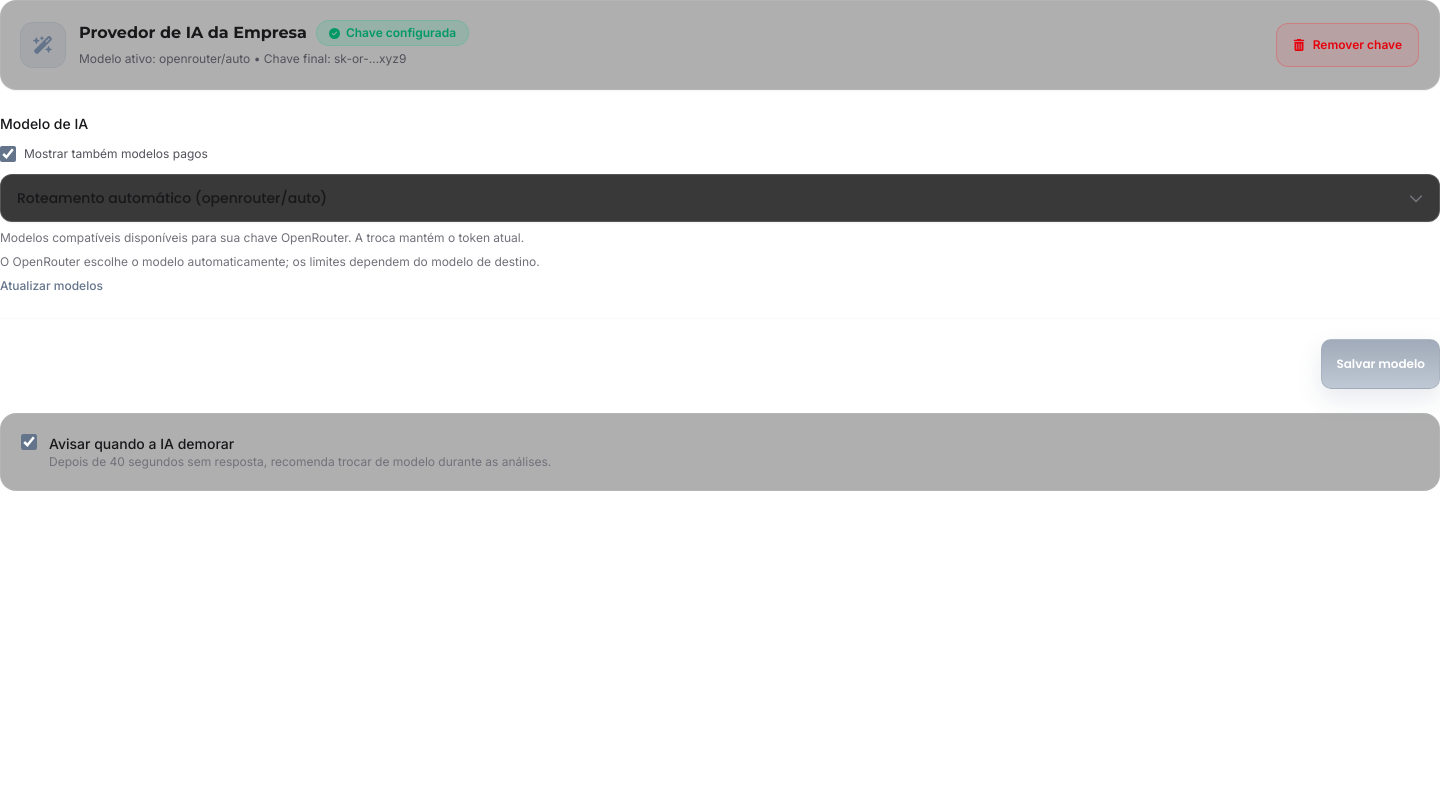
Scenario: FormIaSettings — cadastro e remoção da chave › filtro de modelos gratuitos › combina a caixinha com a busca por texto sem substituir o texto digitado
Click the dropdown named "Modelo de IA". click: [172, 198]
box: [0, 174, 1439, 222]
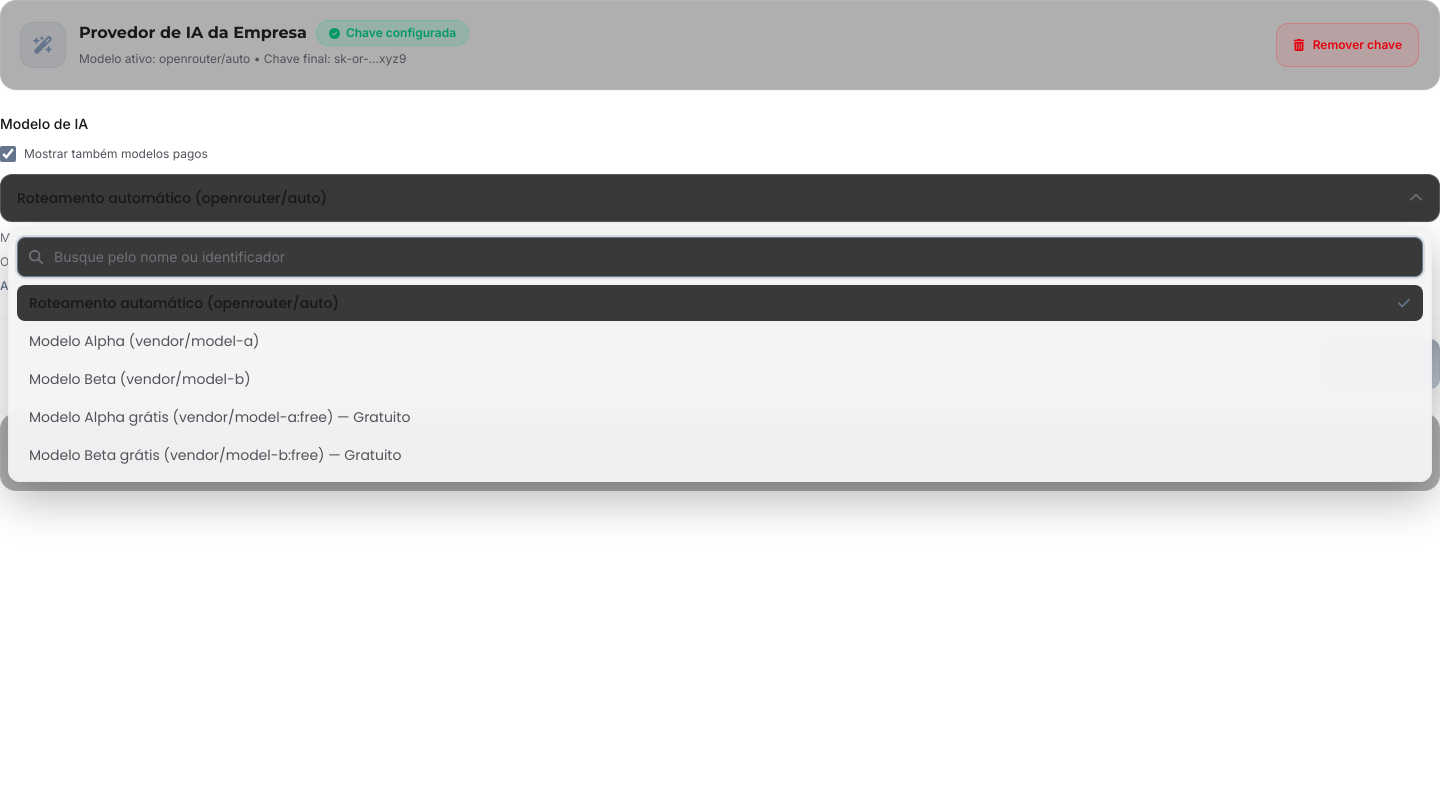
Type "ALPHA" into the search field named "Buscar modelo". click: [720, 256]
box: [17, 236, 1423, 276]
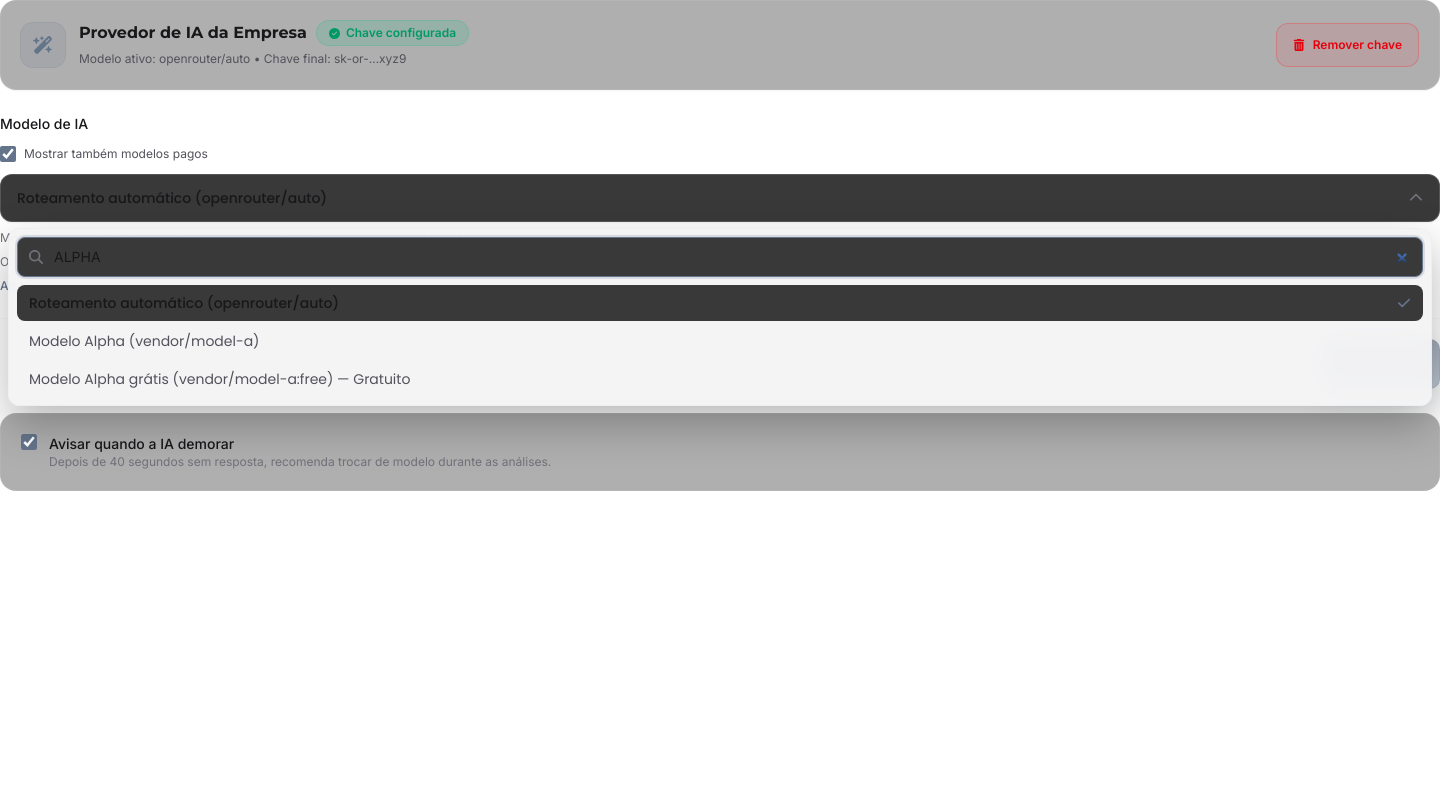
Click the checkbox labelled "Mostrar também modelos pagos". click: [8, 154]
box: [0, 146, 16, 162]
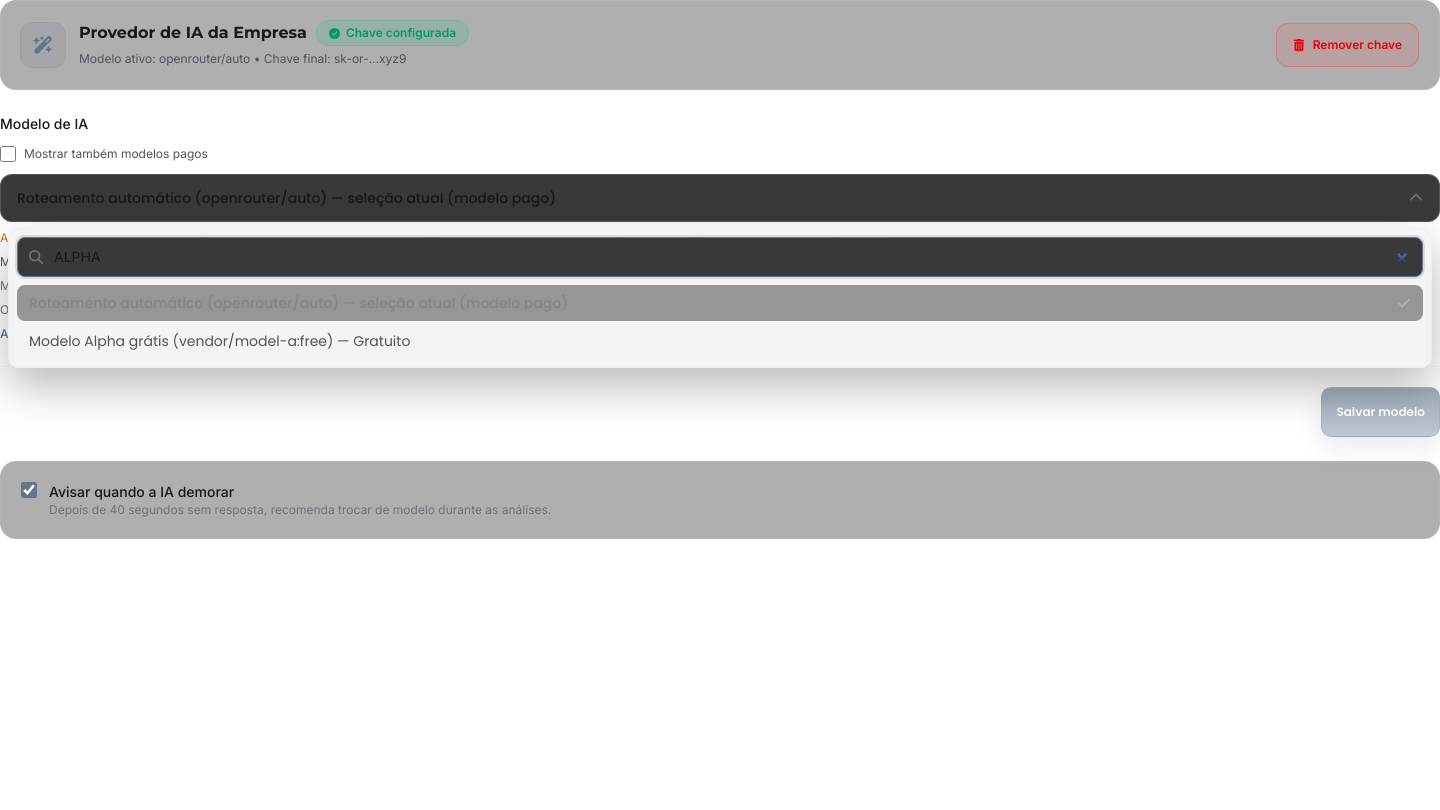
Check: the option "Modelo Beta grátis" is not shown
Check: the option "Modelo Alpha grátis (vendor/model-a:free) — Gratuito" is shown, box [17, 322, 1423, 358]
Check: the option "Modelo Alpha (vendor/model-a)" is gone
Replace the text in the search field named "Buscar modelo" with "vendor/model-b". click: [720, 256]
box: [17, 236, 1423, 276]
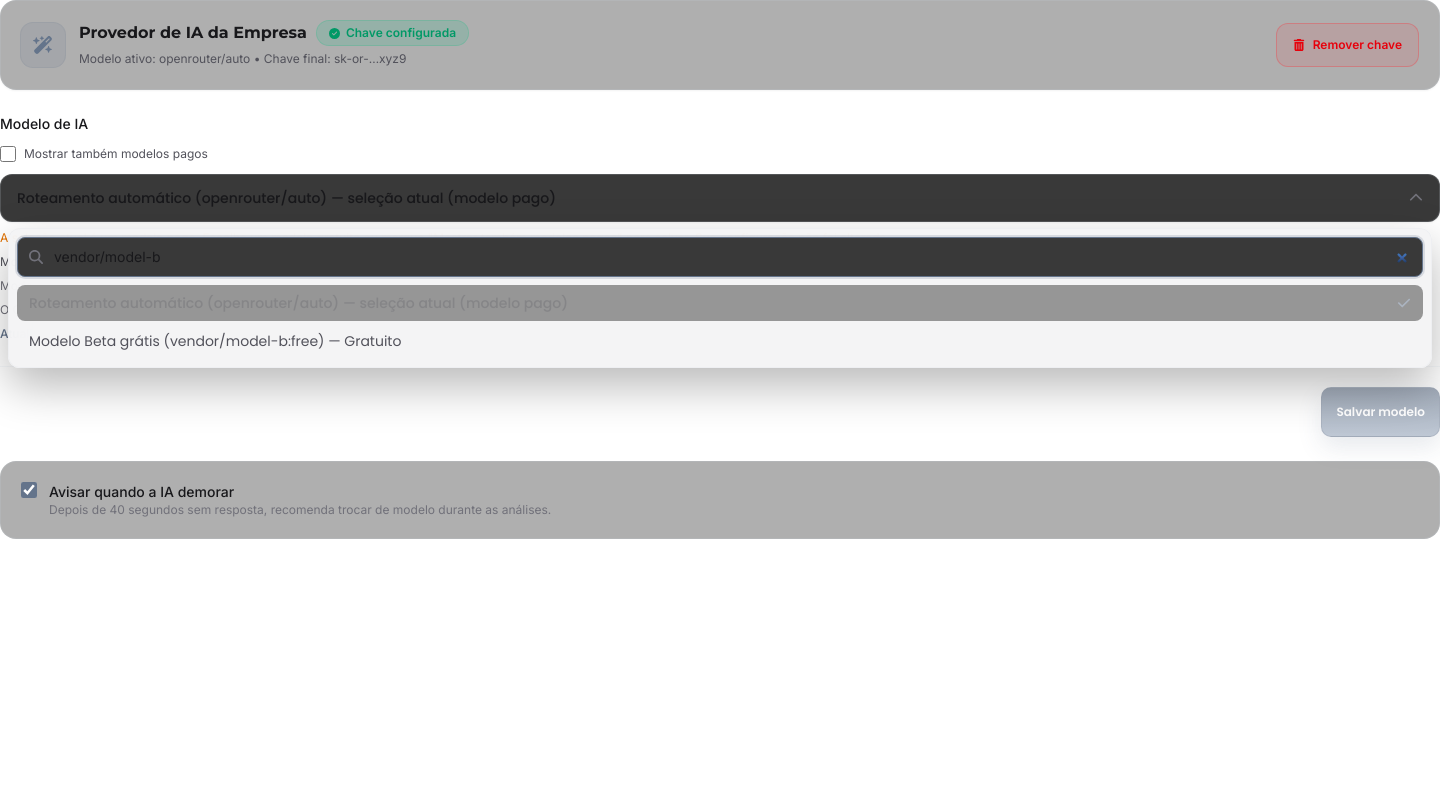
Check: the option "Modelo Beta grátis (vendor/model-b:free) — Gratuito" is shown, box [17, 322, 1423, 358]
Check: the option "Modelo Alpha grátis" is gone
